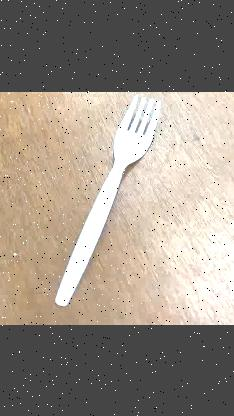Others: (53, 95, 164, 307)
